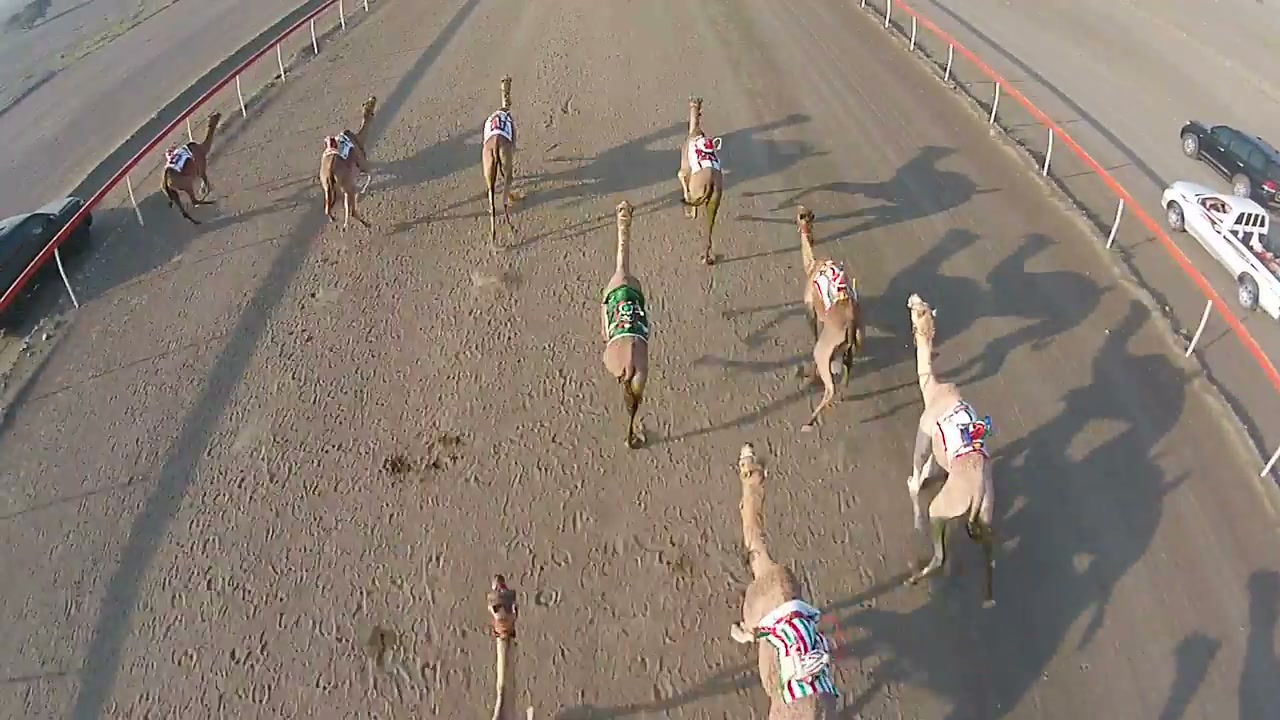animal_footprint: (380, 251, 617, 711), (175, 229, 402, 695), (535, 411, 695, 718), (782, 418, 917, 715)
